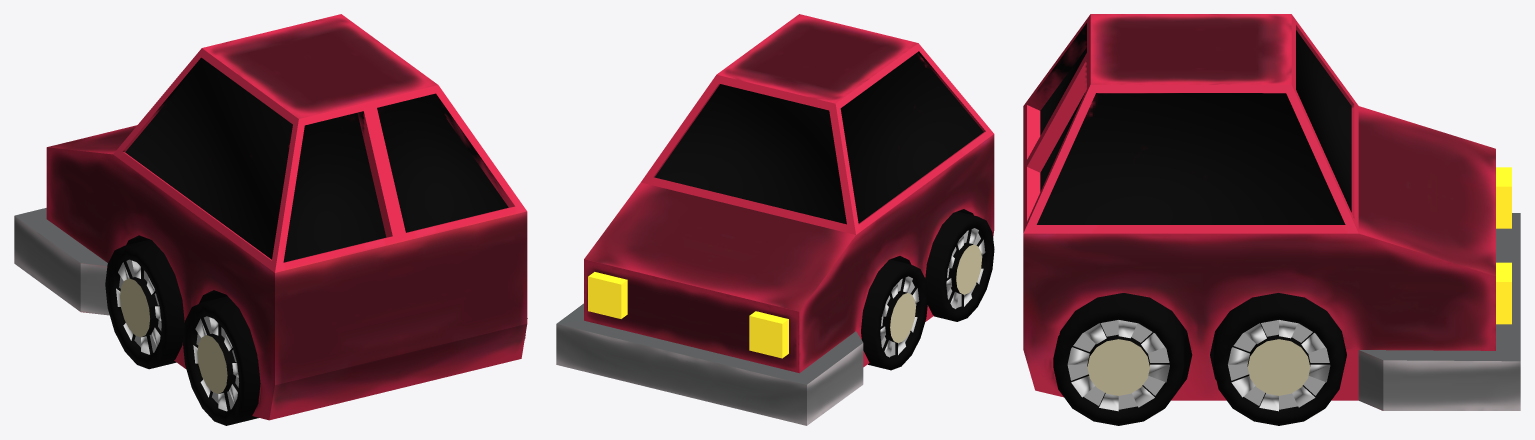
File: TinyCar.fbx
The picture shows the model from 3 angles, left to right: view 1: azimuth 30°, elevation 25°; view 2: azimuth 150°, elevation 25°; view 3: azimuth 270°, elevation 25°; orthographic projection. The views are drawn at different scales.
Visible parts, largest first — view 1: Cube; view 2: Cube; view 3: Cube.
Boxes of the visible parts, left/top/right/bottom form: Cube: left=14, top=14, right=527, bottom=425; Cube: left=556, top=14, right=994, bottom=425; Cube: left=1023, top=14, right=1520, bottom=425.
Size of the model in its own units: 511 by 491 by 724.
2 materials, 1 textured.
